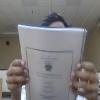notebook: (17, 23, 88, 99)
